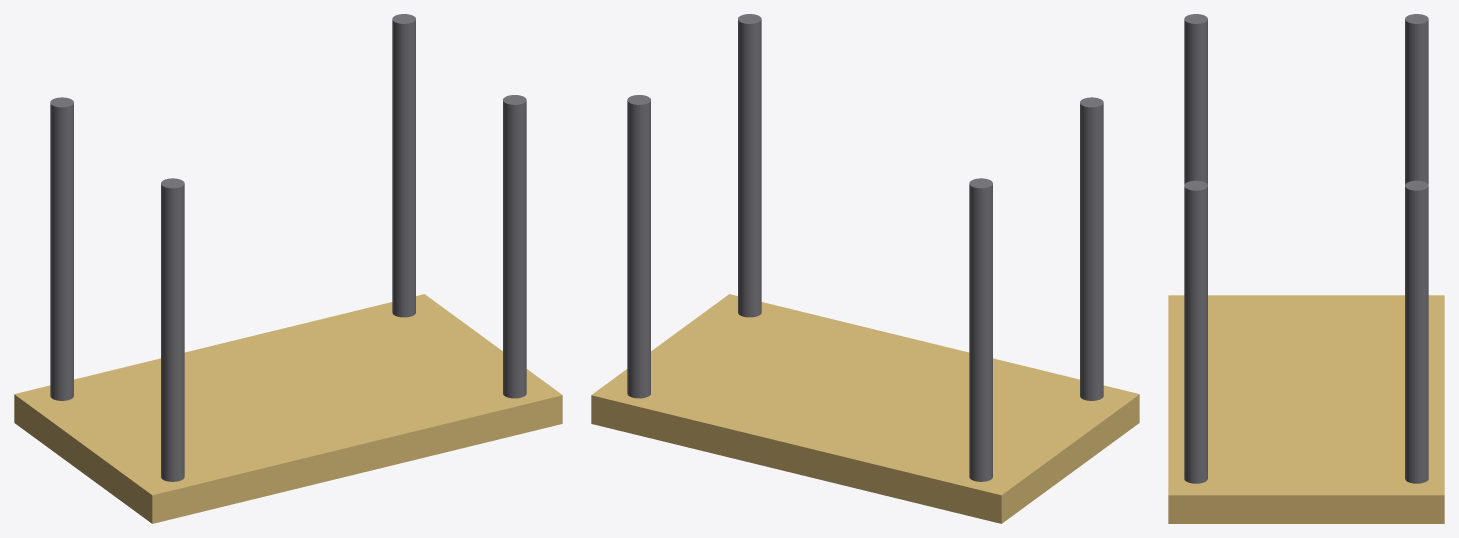
Rendered from P2_Org_Table.glb.
3 renders of one model, left to right at view 1: azimuth 30°, elevation 25°; view 2: azimuth 150°, elevation 25°; view 3: azimuth 270°, elevation 25°, orthographic.
Visible parts, largest first — view 1: P2_Org_Table, P2_Leg_-0.5_-0.28, P2_Leg_-0.5_0.28, P2_Leg_0.5_-0.28, P2_Leg_0.5_0.28; view 2: P2_Org_Table, P2_Leg_-0.5_-0.28, P2_Leg_-0.5_0.28, P2_Leg_0.5_-0.28, P2_Leg_0.5_0.28; view 3: P2_Org_Table, P2_Leg_0.5_-0.28, P2_Leg_0.5_0.28, P2_Leg_-0.5_-0.28, P2_Leg_-0.5_0.28.
Part boxes in pixels (box(x1,y1,x2,y2)): P2_Org_Table: box(14, 294, 562, 523); P2_Leg_-0.5_-0.28: box(161, 178, 184, 481); P2_Leg_-0.5_0.28: box(50, 97, 73, 400); P2_Leg_0.5_-0.28: box(503, 95, 526, 398); P2_Leg_0.5_0.28: box(392, 14, 415, 317); P2_Org_Table: box(591, 294, 1139, 523); P2_Leg_-0.5_-0.28: box(1080, 97, 1103, 400); P2_Leg_-0.5_0.28: box(969, 178, 992, 481); P2_Leg_0.5_-0.28: box(738, 14, 761, 317); P2_Leg_0.5_0.28: box(627, 95, 650, 398); P2_Org_Table: box(1168, 295, 1444, 523); P2_Leg_0.5_-0.28: box(1184, 180, 1207, 483); P2_Leg_0.5_0.28: box(1405, 180, 1428, 483); P2_Leg_-0.5_-0.28: box(1184, 14, 1207, 184); P2_Leg_-0.5_0.28: box(1405, 14, 1428, 184).
Size of the model in its own units: 1.2 by 0.9 by 0.7.
